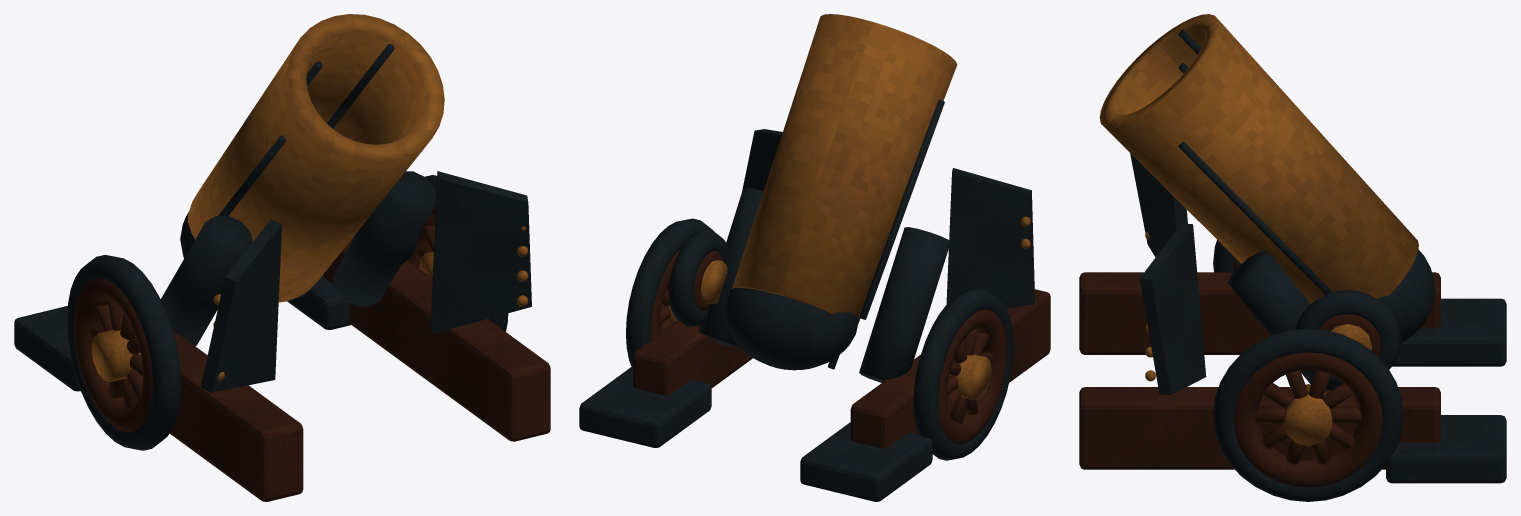
Rendered from mortar-2.glb.
3 renders of one model, left to right at view 1: azimuth 30°, elevation 25°; view 2: azimuth 150°, elevation 25°; view 3: azimuth 270°, elevation 25°, orthographic. The views are drawn at different scales.
Visible parts, largest first — view 1: Turret_Blue iron.001, Carriage_Antique brass.001, Turret_Bound heartwood.001, Turret_Antique brass.001, Carriage_Blue iron.001; view 2: Turret_Blue iron.001, Carriage_Antique brass.001, Turret_Bound heartwood.001, Carriage_Blue iron.001, Winch_Blue iron.001, Turret_Antique brass.001, Winch_Antique brass.001, Winch_Bound heartwood.001; view 3: Carriage_Antique brass.001, Turret_Blue iron.001, Turret_Bound heartwood.001, Carriage_Blue iron.001, Winch_Blue iron.001, Turret_Antique brass.001, Winch_Bound heartwood.001, Winch_Antique brass.001.
Boxes of the visible parts, x1,y1,x2,y2 form: Turret_Blue iron.001: [14, 171, 531, 450]; Carriage_Antique brass.001: [187, 14, 444, 302]; Turret_Bound heartwood.001: [74, 204, 550, 501]; Turret_Antique brass.001: [91, 226, 528, 382]; Carriage_Blue iron.001: [180, 44, 394, 297]; Turret_Blue iron.001: [579, 129, 1034, 501]; Carriage_Antique brass.001: [732, 14, 957, 325]; Turret_Bound heartwood.001: [633, 248, 1050, 448]; Carriage_Blue iron.001: [725, 99, 944, 370]; Winch_Blue iron.001: [669, 230, 727, 326]; Turret_Antique brass.001: [661, 216, 1030, 400]; Winch_Antique brass.001: [701, 260, 727, 304]; Winch_Bound heartwood.001: [694, 251, 723, 310]; Carriage_Antique brass.001: [1099, 14, 1418, 303]; Turret_Blue iron.001: [1130, 153, 1506, 501]; Turret_Bound heartwood.001: [1079, 257, 1440, 487]; Carriage_Blue iron.001: [1178, 29, 1435, 343]; Winch_Blue iron.001: [1295, 290, 1401, 387]; Turret_Antique brass.001: [1145, 231, 1332, 446]; Winch_Bound heartwood.001: [1319, 314, 1380, 355]; Winch_Antique brass.001: [1331, 324, 1371, 350].
Bounding box in the file's own units: 1.84 × 2.02 × 1.95.
3 materials, 3 textured.
